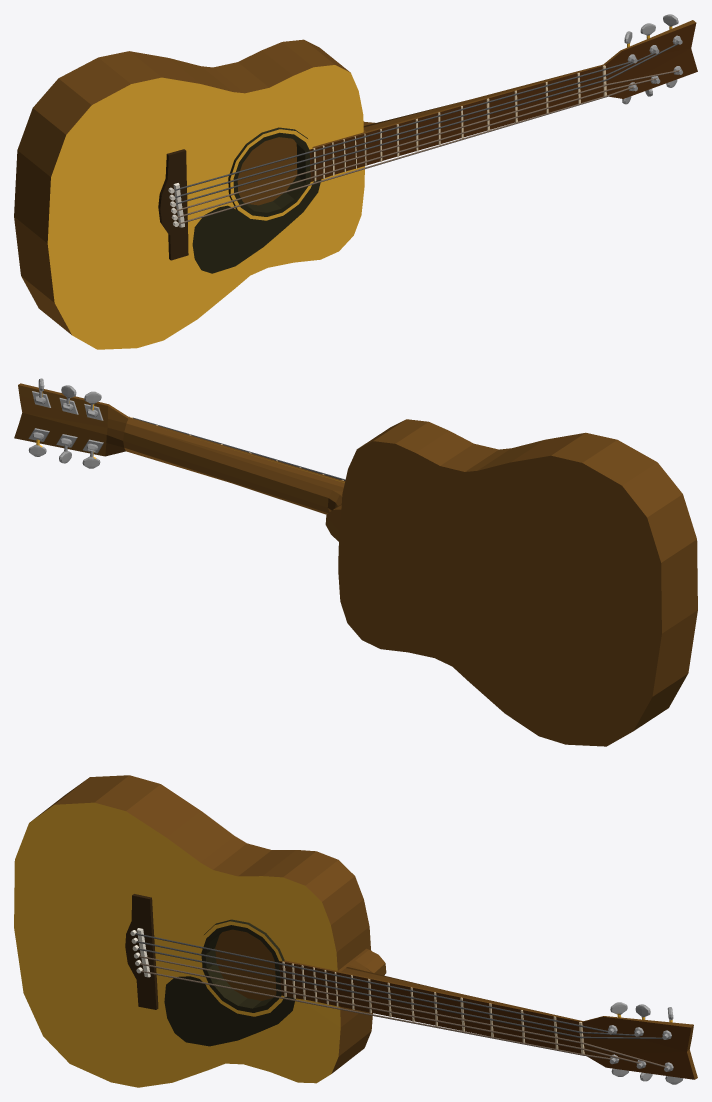
The model's file is model_design_guitar3.gltf.
3 views of the same model, one above another, from view 1: azimuth 30°, elevation 25°; view 2: azimuth 150°, elevation 25°; view 3: azimuth 330°, elevation 25° (orthographic). The views are drawn at different scales.
Visible parts, largest first — view 1: guitar_face, guitar_back, guiatr_buxiangkou, guitar_line, guitar_face_black, guitar_head, guitar_center, guitar_head_node_black; view 2: guitar_back, guitar_head, guitar_head_node_black, guiatr_buxiangkou; view 3: guitar_face, guitar_back, guiatr_buxiangkou, guitar_line, guitar_face_black, guitar_head, guitar_center, guitar_head_node_black, guitar_center_node.
Boxes of the visible parts, left/top/right/bottom form: guitar_face: left=47, top=65, right=364, bottom=349; guitar_back: left=14, top=39, right=690, bottom=334; guiatr_buxiangkou: left=233, top=64, right=606, bottom=216; guitar_line: left=174, top=43, right=680, bottom=224; guitar_face_black: left=192, top=179, right=321, bottom=273; guitar_head: left=603, top=20, right=697, bottom=98; guitar_center: left=158, top=149, right=188, bottom=260; guitar_head_node_black: left=622, top=14, right=682, bottom=104; guitar_back: left=123, top=419, right=697, bottom=746; guitar_head: left=14, top=383, right=129, bottom=456; guitar_head_node_black: left=28, top=378, right=103, bottom=468; guiatr_buxiangkou: left=124, top=417, right=345, bottom=482; guitar_face: left=14, top=802, right=340, bottom=1087; guitar_back: left=32, top=775, right=685, bottom=1073; guiatr_buxiangkou: left=201, top=925, right=584, bottom=1054; guitar_line: left=135, top=933, right=667, bottom=1067; guitar_face_black: left=164, top=976, right=295, bottom=1046; guitar_head: left=582, top=1016, right=697, bottom=1079; guitar_center: left=125, top=894, right=158, bottom=1009; guitar_head_node_black: left=608, top=1002, right=682, bottom=1084; guitar_center_node: left=130, top=928, right=150, bottom=977.
Bounding box in the file's own units: 4.61 × 1.84 × 0.5272.
